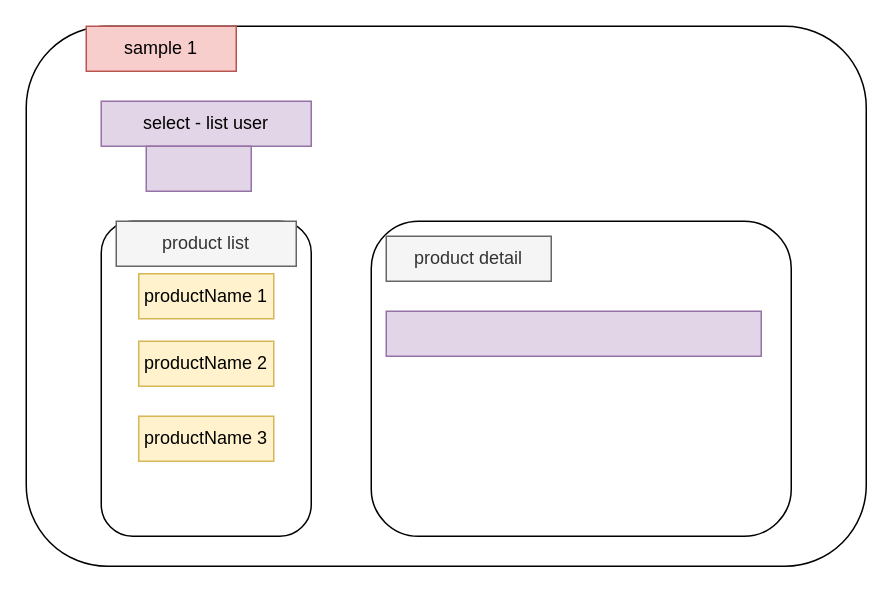
The diagram is 893 pixels wide and 593 high, and some of its shapes have lost their labels. Each missing label, with the box of its shape:
productName - product Desc - categoryName: (385, 310, 761, 356)
userName: (145, 145, 251, 191)
